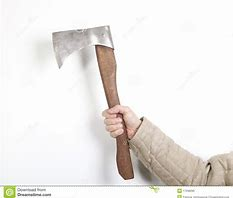axe: (51, 24, 139, 181)
